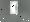person: (11, 2, 19, 15)
